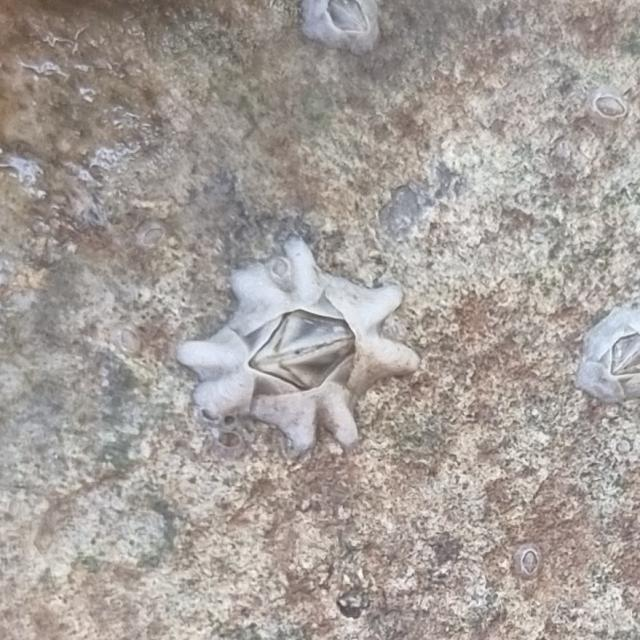barnacles: (182, 264, 422, 459), (568, 294, 640, 426), (282, 0, 399, 57)
